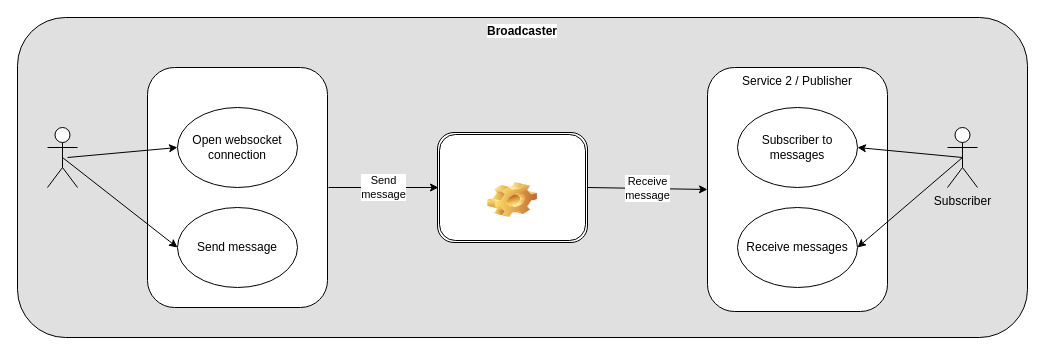
Image size: 1045x355. Some labels were removed from this diagram. Each missing label, with the box of its shape:
Message queue (Redis): (436, 132, 588, 242)
Publisher: (46, 126, 78, 188)
Service 1 / Listener: (146, 66, 328, 308)
